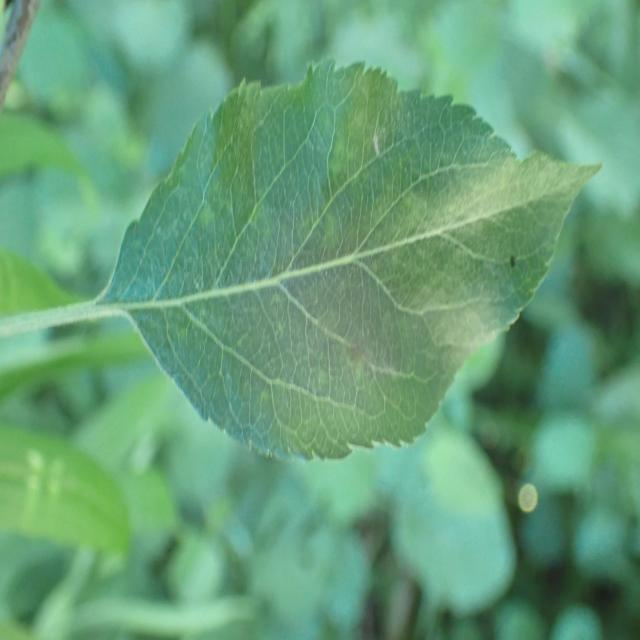scab: (190, 130, 544, 432)
